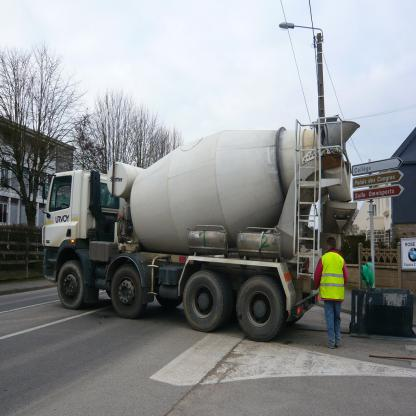Truck: (42, 114, 360, 342)
